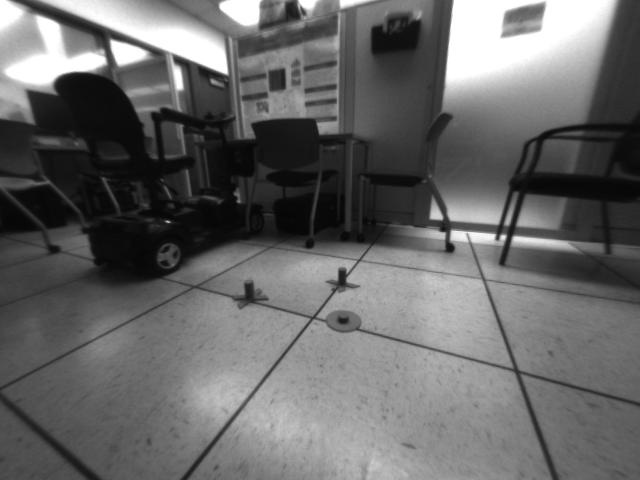X: (231, 279, 275, 310), (328, 266, 361, 293)
